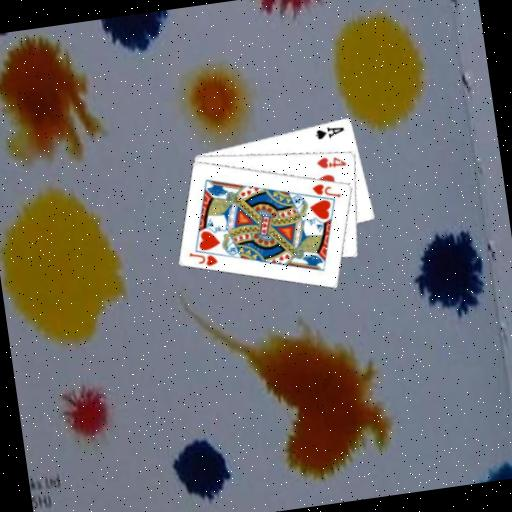4H: (313, 151, 348, 172)
AS: (312, 121, 347, 142)
JH: (308, 177, 343, 202), (186, 246, 221, 271)
